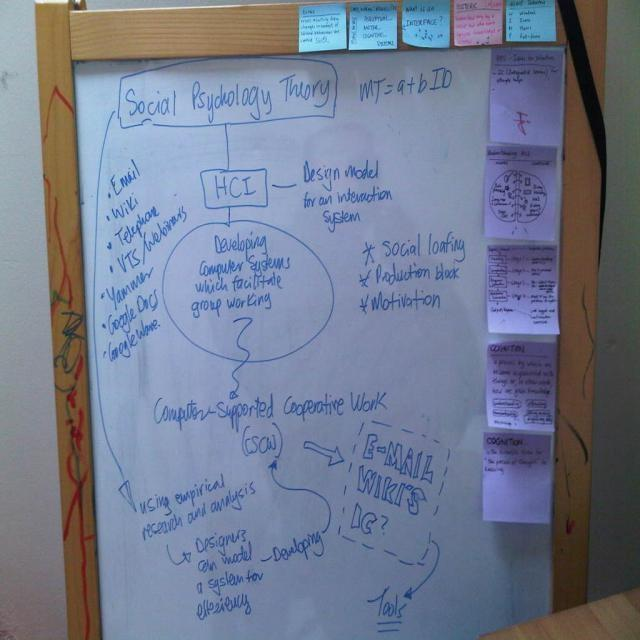Whiteboard: (37, 1, 606, 639)
